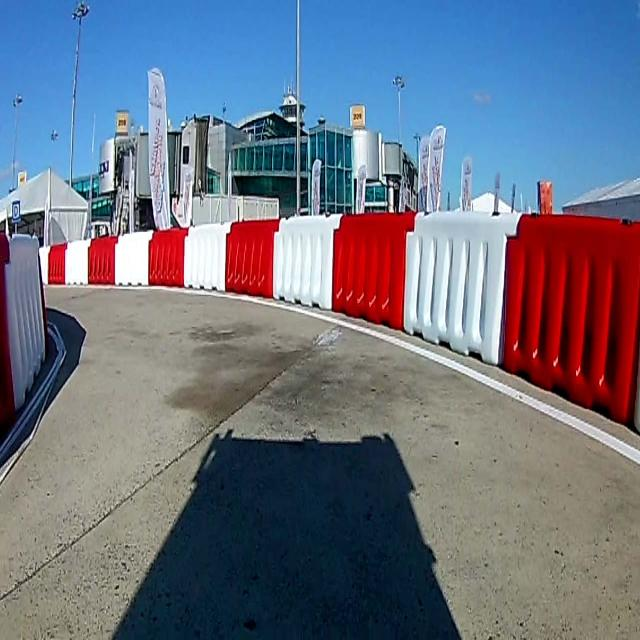durak: (12, 202, 20, 220)
